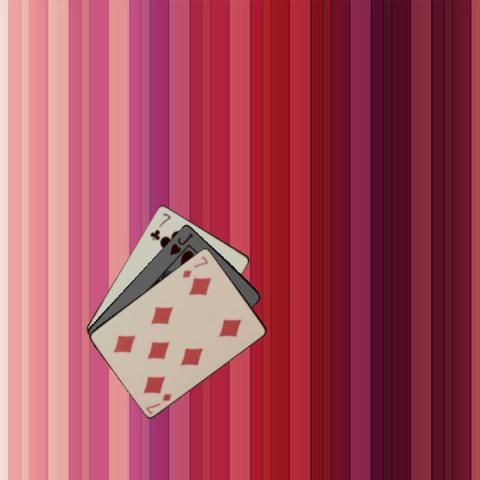7c: (147, 210, 172, 242)
7d: (180, 252, 210, 278), (144, 390, 174, 415)
Jh: (165, 229, 195, 257)
